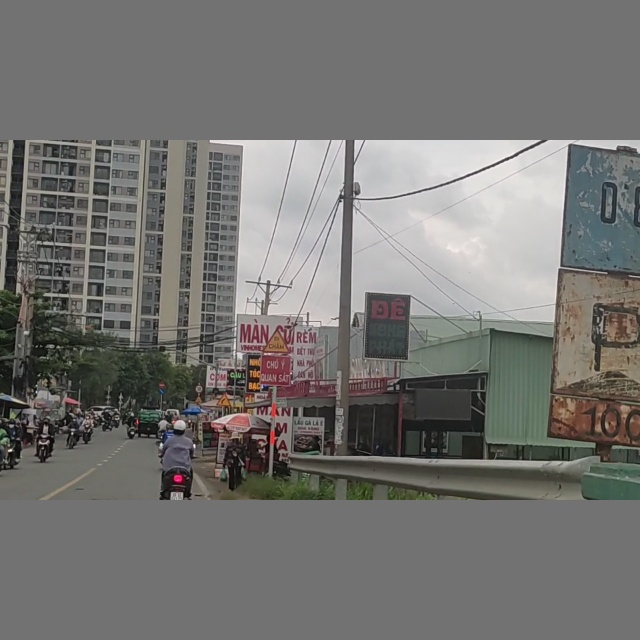W.245a: (263, 330, 289, 353)
